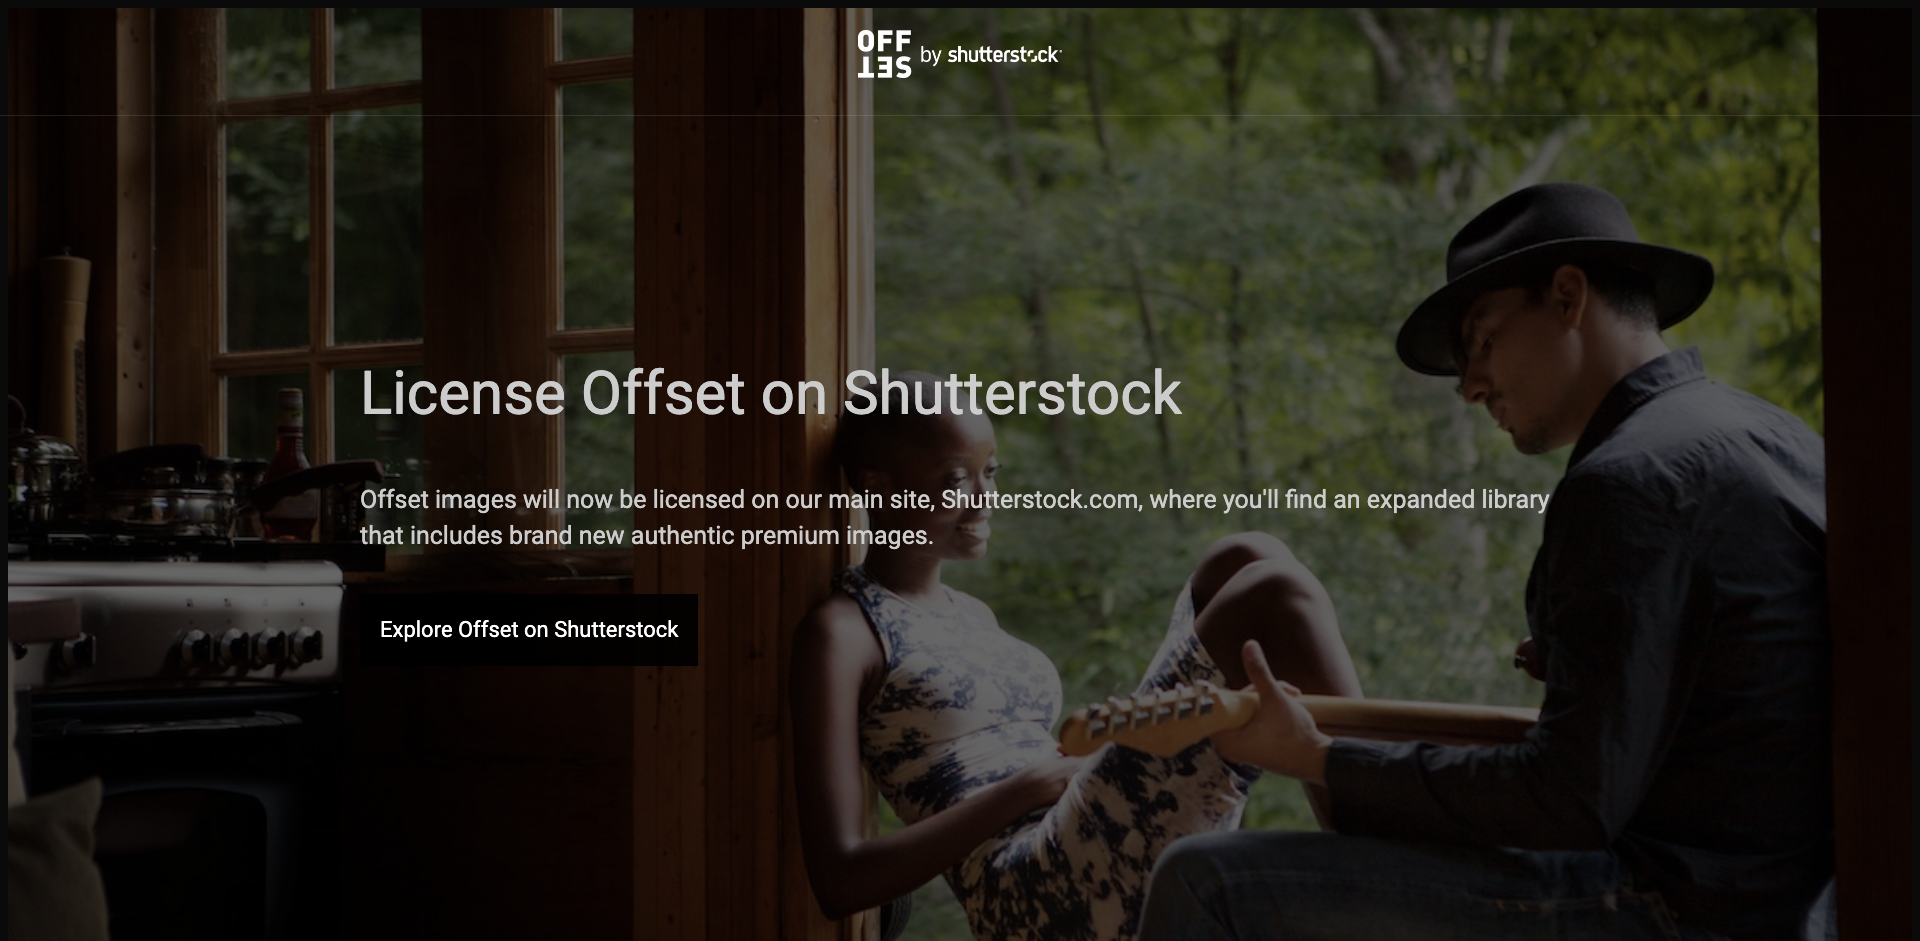link: (360, 594, 698, 667), (842, 358, 1182, 429), (858, 61, 1062, 82)
